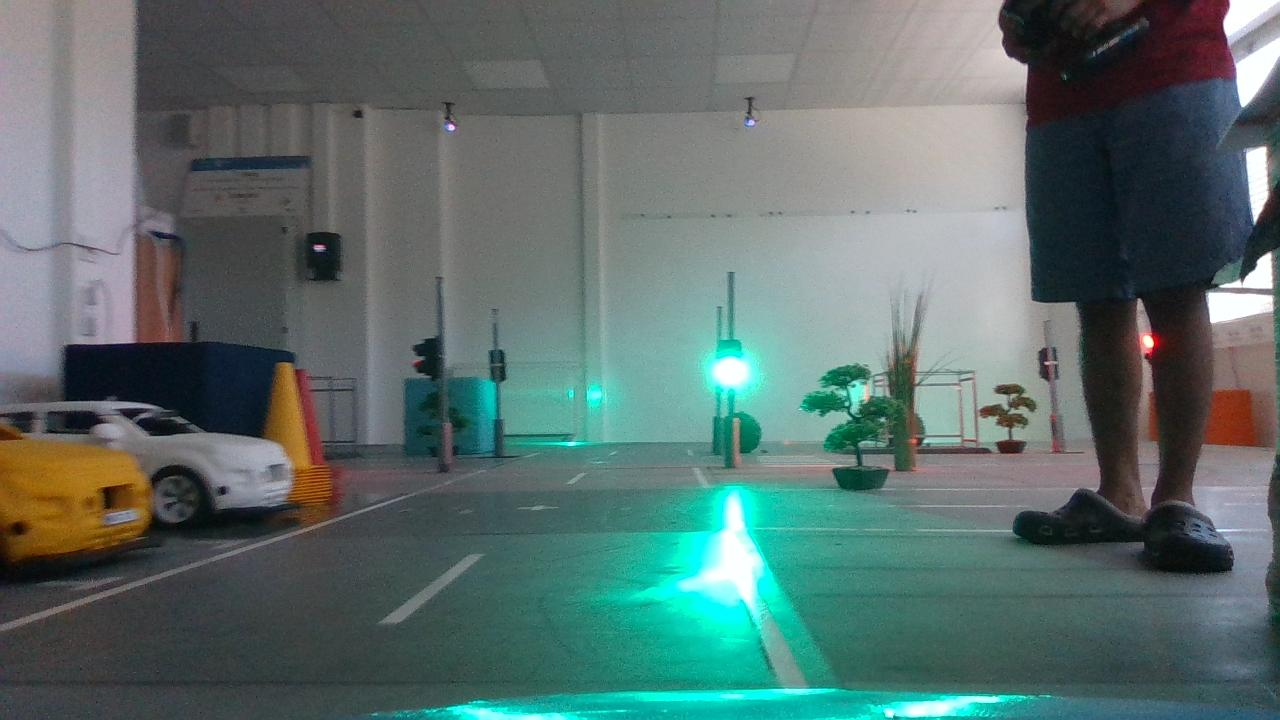traffic_light_green: (704, 333, 760, 403)
